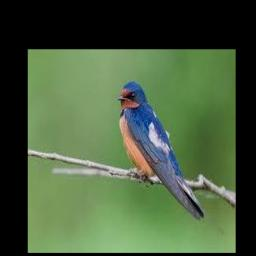Swallow: (117, 83, 205, 219)
